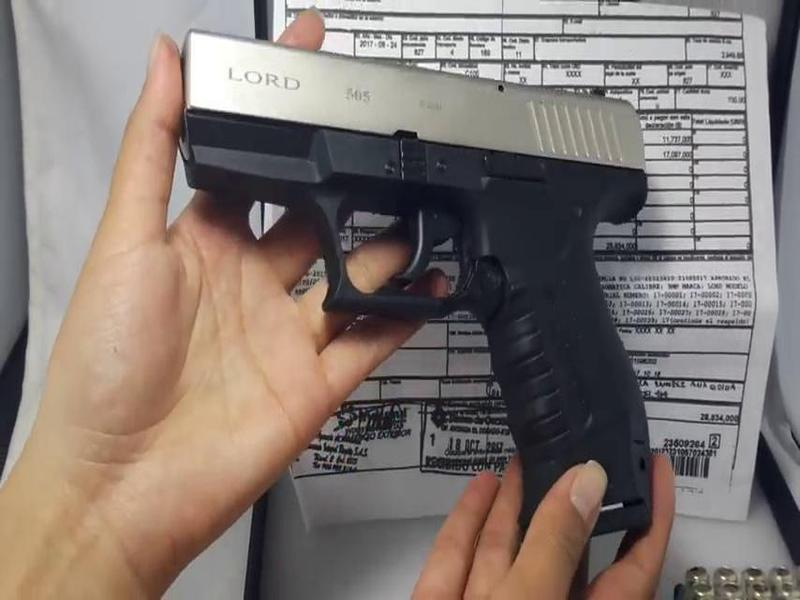Pistola: (180, 14, 667, 546)
